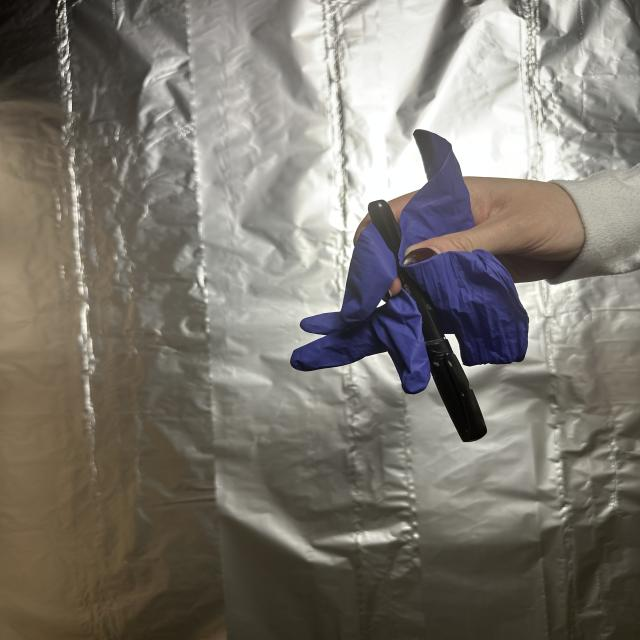glove_not_fitted: (287, 124, 583, 397)
